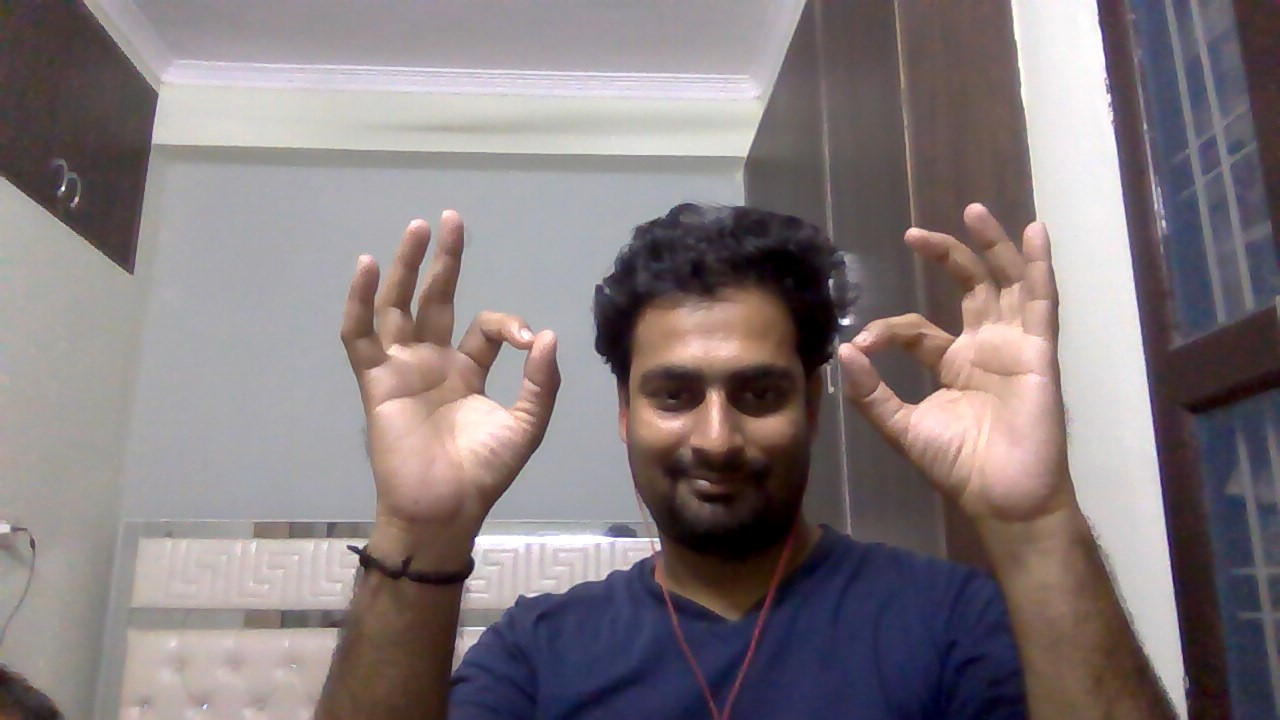Copy: (826, 194, 1092, 526), (330, 204, 575, 534)
